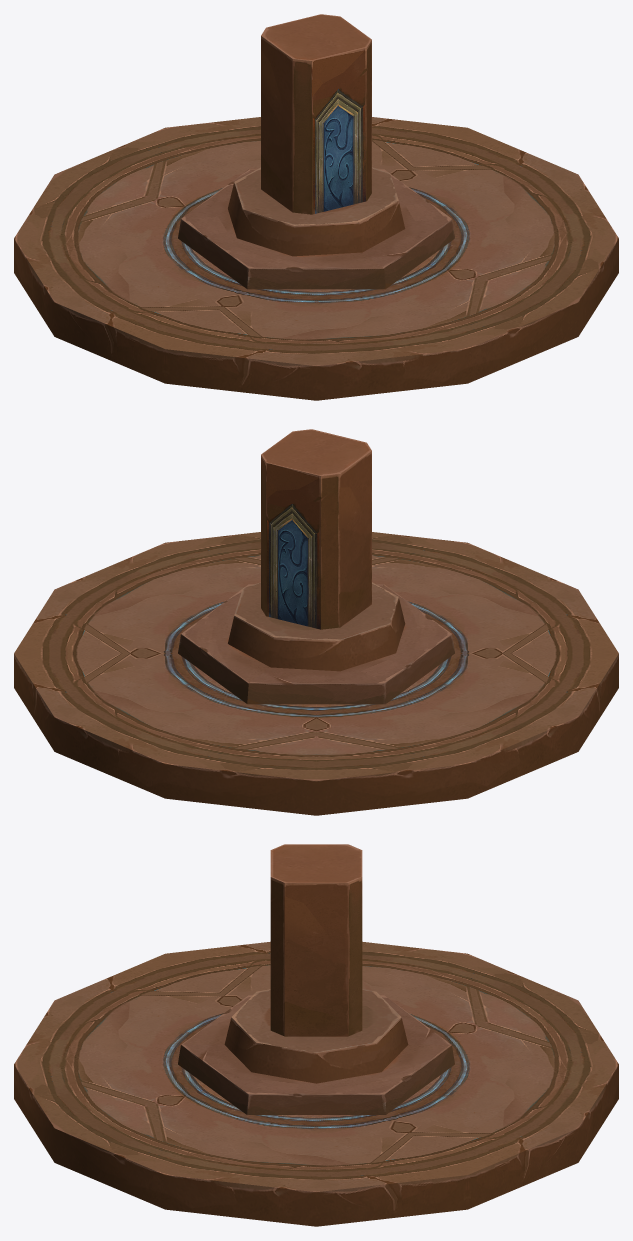
Rendered from guchengqishituan_BOSS_C_01_a1.FBX.
The picture shows the model from 3 angles, top to bottom: view 1: azimuth 30°, elevation 25°; view 2: azimuth 150°, elevation 25°; view 3: azimuth 270°, elevation 25°; orthographic projection.
Visible parts, largest first — view 1: guchengqishituan_BOSS_C_01_a001; view 2: guchengqishituan_BOSS_C_01_a001; view 3: guchengqishituan_BOSS_C_01_a001.
Boxes of the visible parts, x1,y1,x2,y2 form: guchengqishituan_BOSS_C_01_a001: (14,14,618,400); guchengqishituan_BOSS_C_01_a001: (14,429,618,815); guchengqishituan_BOSS_C_01_a001: (14,844,618,1226).
Bounding box in the file's own units: 7.37 × 3.16 × 7.37.
